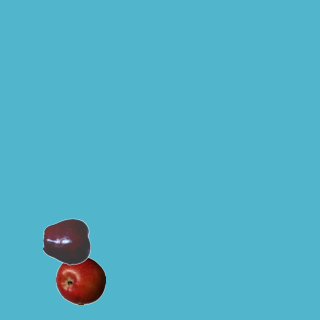Apple Braeburn: (55, 255, 105, 305)
Apple Red Delicious: (42, 216, 92, 266)
